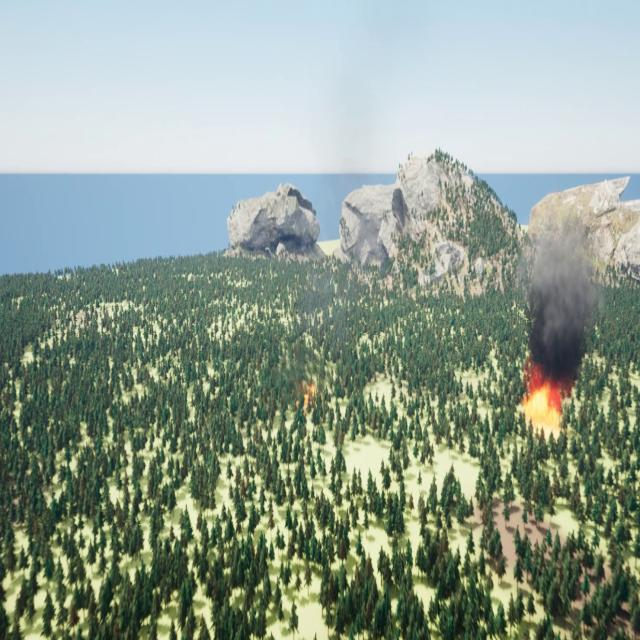fire: (522, 358, 567, 419), (296, 377, 314, 408)
smoke: (524, 218, 601, 371)
